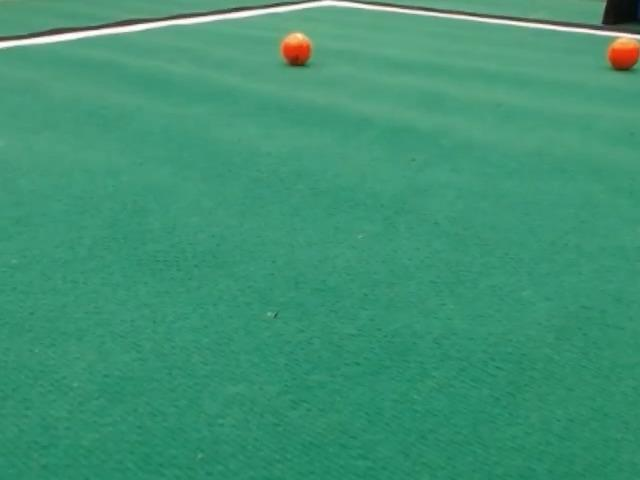Ball: (606, 37, 639, 70), (281, 32, 311, 65)
Blue Goal: (638, 2, 640, 19)
